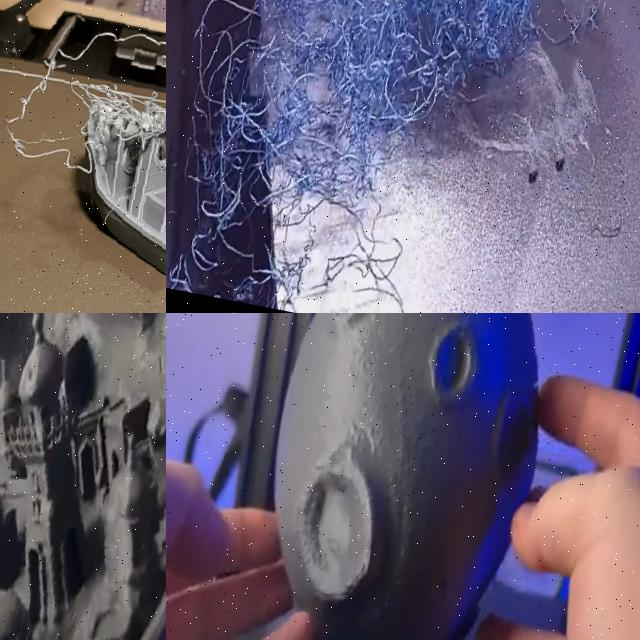spaghetti: (166, 0, 640, 313), (0, 0, 166, 313), (590, 210, 630, 260)
